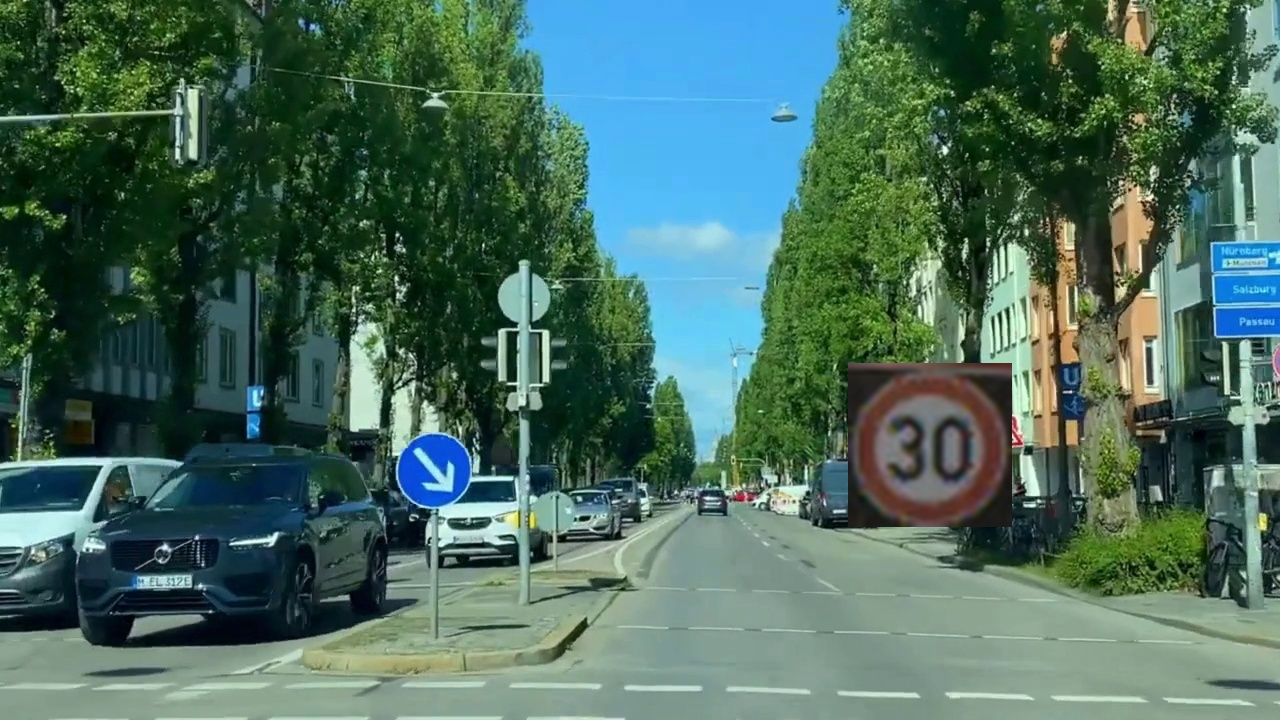Speed 30: (848, 363, 1012, 527)
